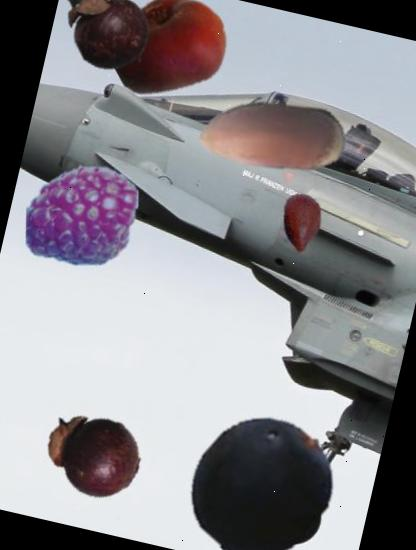Grape: (173, 399, 348, 550)
Guava: (74, 0, 138, 57)
Hazelnut: (183, 46, 362, 225)
Mangostan: (35, 397, 151, 514), (51, 0, 164, 81)
Nectarine: (97, 0, 239, 117)
Raspberry: (15, 149, 149, 283)
Salak: (265, 187, 339, 261)
